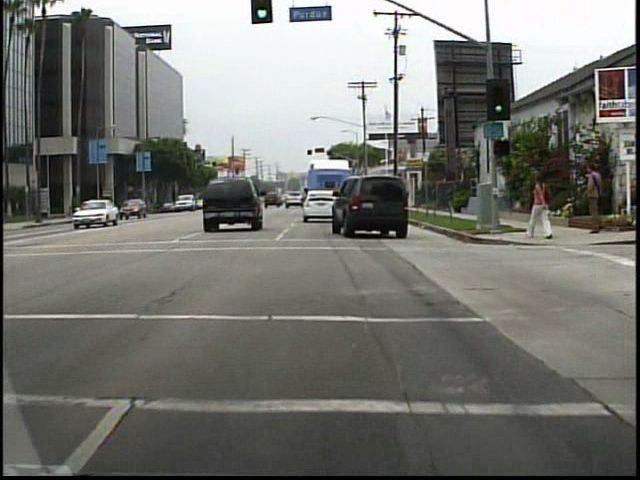person: (577, 157, 608, 241), (521, 171, 555, 245)
